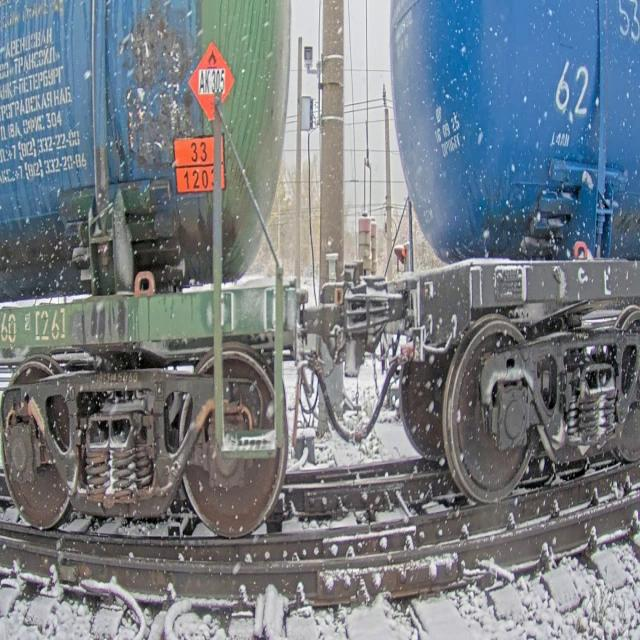tank: (0, 0, 312, 553), (368, 0, 640, 522)
